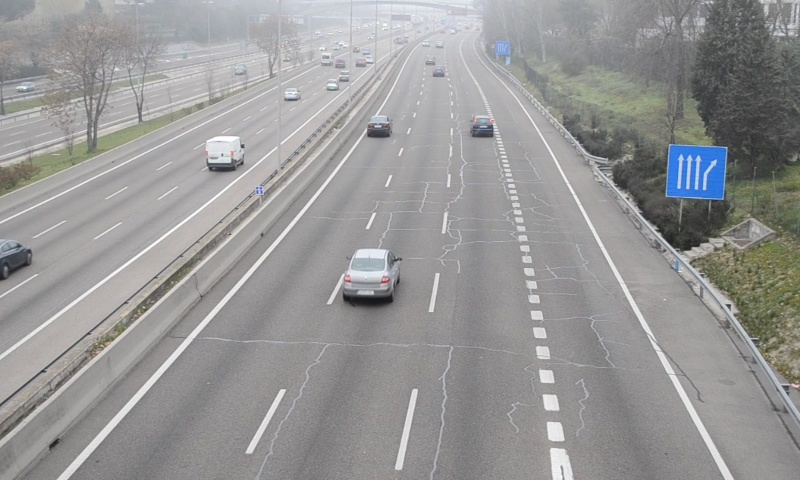car: (343, 249, 398, 300), (365, 114, 392, 136), (471, 115, 494, 137)
